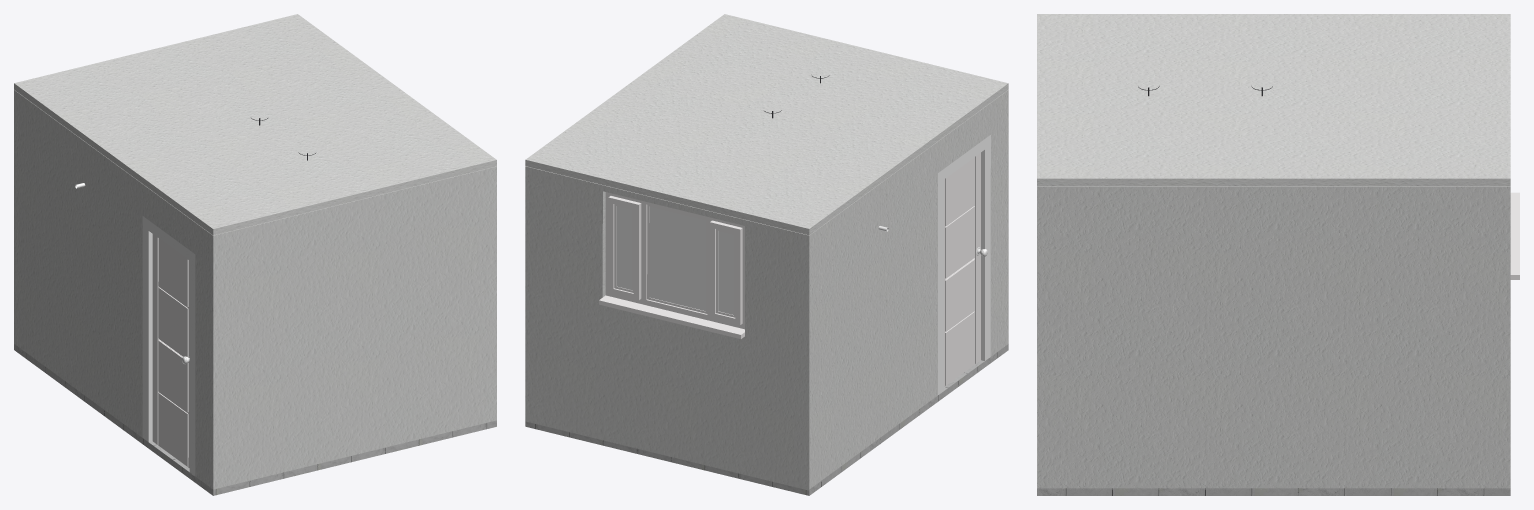
The model's file is FloorPlan420_physics.fbx.
The picture shows the model from 3 angles, left to right: view 1: azimuth 30°, elevation 25°; view 2: azimuth 150°, elevation 25°; view 3: azimuth 270°, elevation 25°; orthographic projection. The views are drawn at different scales.
Visible parts, largest first — view 1: FP420:Walls, FP420:Ceiling, FP420:Door.016, FP420:polySurface366, FP420:Floor; view 2: FP420:Walls, FP420:Ceiling, FP420:polySurface101, FP420:polySurface95, FP420:Door.016, FP420:polySurface366, FP420:Floor; view 3: FP420:Walls, FP420:Ceiling, FP420:Floor, FP420:polySurface101.
Part boxes in pixels (bbox=[...]): FP420:Walls: bbox=[14, 90, 496, 489]; FP420:Ceiling: bbox=[14, 14, 496, 235]; FP420:Door.016: bbox=[152, 234, 189, 467]; FP420:polySurface366: bbox=[142, 216, 195, 475]; FP420:Floor: bbox=[14, 344, 496, 495]; FP420:Walls: bbox=[525, 90, 1008, 490]; FP420:Ceiling: bbox=[525, 14, 1008, 235]; FP420:polySurface101: bbox=[599, 192, 744, 338]; FP420:polySurface95: bbox=[616, 206, 734, 314]; FP420:Door.016: bbox=[944, 152, 980, 386]; FP420:polySurface366: bbox=[938, 135, 990, 394]; FP420:Floor: bbox=[525, 344, 1008, 495]; FP420:Walls: bbox=[1037, 186, 1510, 489]; FP420:Ceiling: bbox=[1037, 14, 1510, 186]; FP420:Floor: bbox=[1037, 354, 1510, 495]; FP420:polySurface101: bbox=[1510, 192, 1519, 279].
Bounding box in the file's own units: 288 × 260 × 347.
